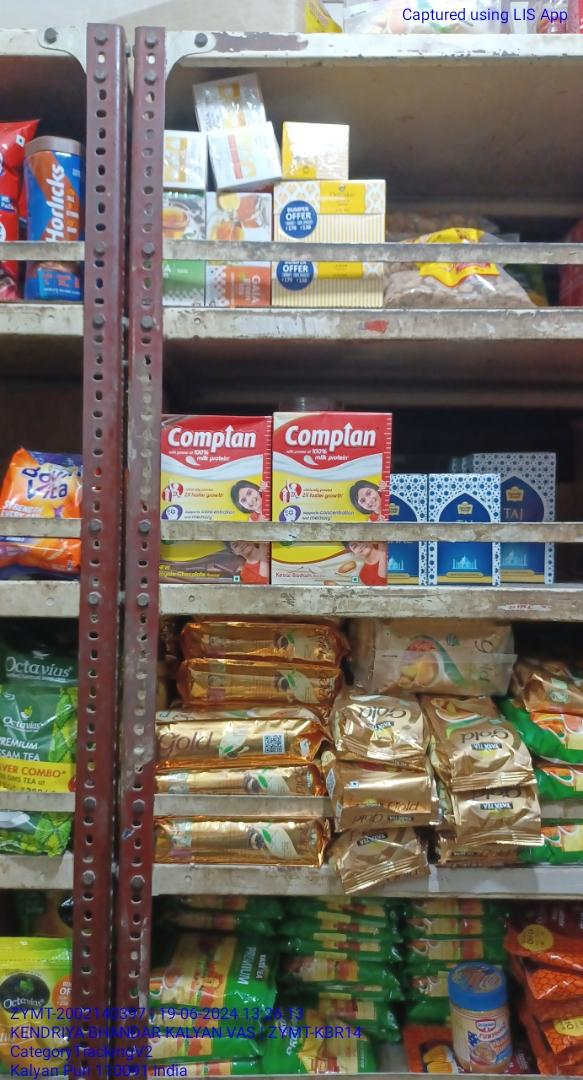COMPLAN_KESAR_BADAM_500_GMS_PACK: (273, 413, 385, 585)
HORLICK_CHOCOLATE_500_G_JAR: (23, 132, 84, 303)
